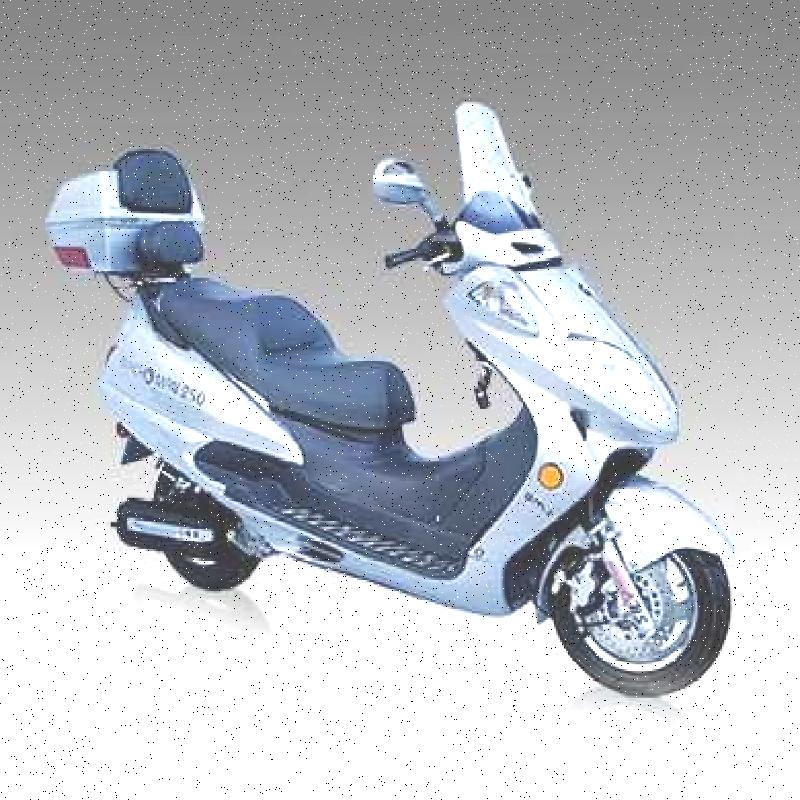bike: (35, 93, 730, 693)
